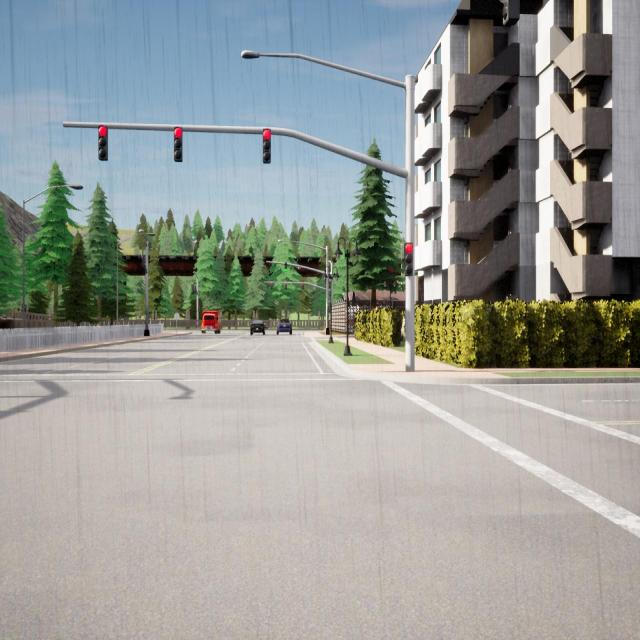Traffic_Signs: (175, 312, 179, 320)
Vehicle: (201, 310, 221, 334), (276, 317, 293, 335), (250, 319, 265, 336)
traffic_light: (499, 0, 520, 26), (98, 125, 108, 162), (404, 243, 414, 276), (263, 129, 271, 163), (174, 127, 182, 161), (284, 263, 287, 272), (142, 256, 144, 266), (270, 282, 272, 290), (302, 282, 304, 290), (198, 307, 201, 312), (192, 285, 194, 292), (285, 283, 287, 289), (195, 286, 196, 293)
